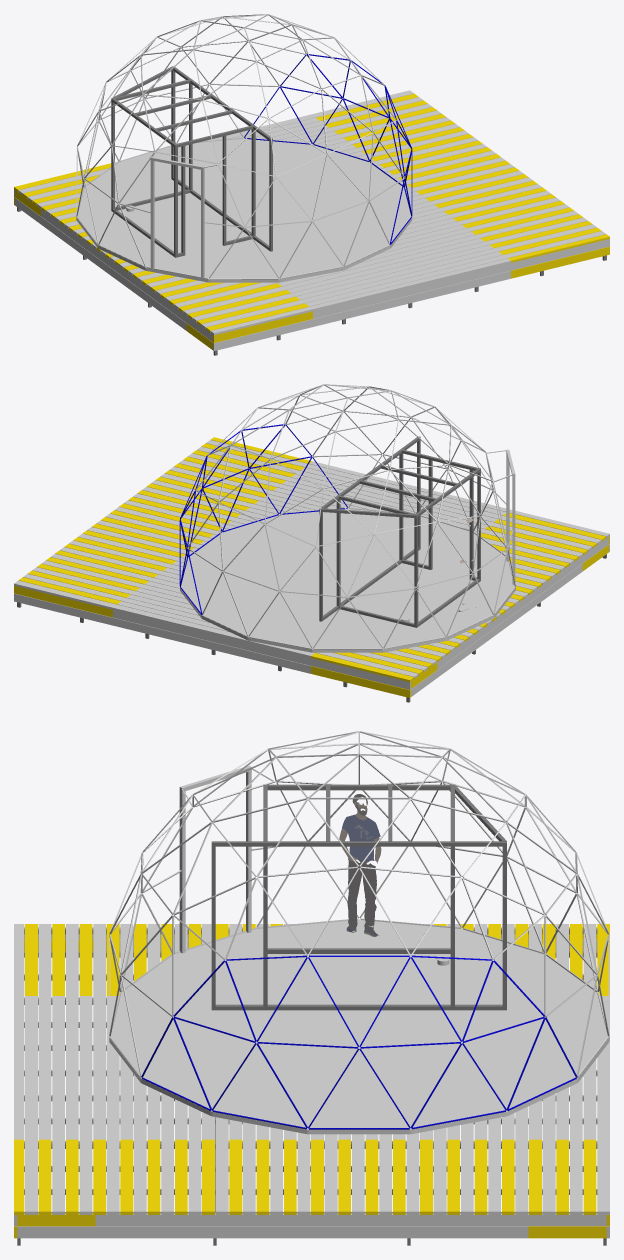
The picture shows the model from 3 angles, top to bottom: view 1: azimuth 30°, elevation 25°; view 2: azimuth 150°, elevation 25°; view 3: azimuth 270°, elevation 25°; orthographic projection. The views are drawn at different scales.
Visible parts, largest first — view 1: Mesh167 _________________ _____ Group1 Model, Mesh191 Group28 Group27 ______ Group1 Model, Mesh189 Group25 Group24 ______ Group1 Model, Mesh223 Group70 Group51 ______ Group1 Model, Mesh216 Group63 Group51 ______ Group1 Model, Mesh239 Group86 Group51 ______ Group1 Model, Mesh246 Group93 Group51 ______ Group1 Model, Mesh260 Group107 Group51 ______ Group1 Model, Mesh235 Group82 Group51 ______ Group1 Model, Mesh250 Group97 Group51 ______ Group1 Model, Mesh201 Group46 Group45 Group44 ______ Group1 Model, Mesh203 Group49 Group48 Group44 ______ Group1 Model (+58 smaller); view 2: Mesh167 _________________ _____ Group1 Model, Mesh197 Group39 Group38 Group37 ______ Group1 Model, Mesh199 Group42 Group41 Group37 ______ Group1 Model, Mesh231 Group78 Group51 ______ Group1 Model, Mesh201 Group46 Group45 Group44 ______ Group1 Model, Mesh203 Group49 Group48 Group44 ______ Group1 Model, Mesh216 Group63 Group51 ______ Group1 Model, Mesh250 Group97 Group51 ______ Group1 Model, Mesh260 Group107 Group51 ______ Group1 Model, Mesh235 Group82 Group51 ______ Group1 Model, Mesh239 Group86 Group51 ______ Group1 Model, Mesh223 Group70 Group51 ______ Group1 Model (+60 smaller); view 3: Mesh167 _________________ _____ Group1 Model, Mesh193 Group32 Group31 Group30 ______ Group1 Model, Mesh195 Group35 Group34 Group30 ______ Group1 Model, Mesh188 Marc1 _____ Group1 Model, Mesh260 Group107 Group51 ______ Group1 Model, Mesh239 Group86 Group51 ______ Group1 Model, Mesh235 Group82 Group51 ______ Group1 Model, Mesh250 Group97 Group51 ______ Group1 Model, Mesh216 Group63 Group51 ______ Group1 Model, Mesh246 Group93 Group51 ______ Group1 Model, Mesh283 Group130 Group51 ______ Group1 Model, Mesh223 Group70 Group51 ______ Group1 Model (+63 smaller).
Boxes of the visible parts, x1,y1,x2,y2 form: Mesh167 _________________ _____ Group1 Model: (76, 138, 412, 282); Mesh191 Group28 Group27 ______ Group1 Model: (213, 271, 510, 350); Mesh189 Group25 Group24 ______ Group1 Model: (313, 239, 609, 318); Mesh223 Group70 Group51 ______ Group1 Model: (210, 258, 510, 335); Mesh216 Group63 Group51 ______ Group1 Model: (192, 245, 493, 322); Mesh239 Group86 Group51 ______ Group1 Model: (201, 251, 502, 329); Mesh246 Group93 Group51 ______ Group1 Model: (183, 238, 483, 315); Mesh260 Group107 Group51 ______ Group1 Model: (287, 217, 587, 293); Mesh235 Group82 Group51 ______ Group1 Model: (305, 231, 605, 306); Mesh250 Group97 Group51 ______ Group1 Model: (296, 224, 596, 299); Mesh201 Group46 Group45 Group44 ______ Group1 Model: (15, 198, 186, 330); Mesh203 Group49 Group48 Group44 ______ Group1 Model: (41, 209, 212, 341); Mesh167 _________________ _____ Group1 Model: (180, 508, 515, 652); Mesh197 Group39 Group38 Group37 ______ Group1 Model: (14, 593, 310, 673); Mesh199 Group42 Group41 Group37 ______ Group1 Model: (113, 610, 410, 689); Mesh231 Group78 Group51 ______ Group1 Model: (14, 580, 314, 657); Mesh201 Group46 Group45 Group44 ______ Group1 Model: (411, 564, 582, 696); Mesh203 Group49 Group48 Group44 ______ Group1 Model: (437, 537, 608, 669); Mesh216 Group63 Group51 ______ Group1 Model: (291, 474, 592, 551); Mesh250 Group97 Group51 ______ Group1 Model: (197, 446, 497, 522); Mesh260 Group107 Group51 ______ Group1 Model: (188, 453, 487, 528); Mesh235 Group82 Group51 ______ Group1 Model: (206, 440, 506, 515); Mesh239 Group86 Group51 ______ Group1 Model: (300, 467, 601, 544); Mesh223 Group70 Group51 ______ Group1 Model: (310, 461, 609, 538); Mesh167 _________________ _____ Group1 Model: (109, 919, 609, 1134); Mesh193 Group32 Group31 Group30 ______ Group1 Model: (17, 1226, 528, 1238); Mesh195 Group35 Group34 Group30 ______ Group1 Model: (95, 1213, 606, 1226); Mesh188 Marc1 _____ Group1 Model: (339, 794, 381, 936); Mesh260 Group107 Group51 ______ Group1 Model: (79, 996, 92, 1214); Mesh239 Group86 Group51 ______ Group1 Model: (38, 924, 51, 1139); Mesh235 Group82 Group51 ______ Group1 Model: (25, 996, 37, 1214); Mesh250 Group97 Group51 ______ Group1 Model: (52, 996, 64, 1214); Mesh216 Group63 Group51 ______ Group1 Model: (66, 924, 78, 1139); Mesh246 Group93 Group51 ______ Group1 Model: (93, 924, 105, 1139); Mesh283 Group130 Group51 ______ Group1 Model: (106, 996, 119, 1214); Mesh223 Group70 Group51 ______ Group1 Model: (14, 924, 24, 1139).
Bounding box in the file's own units: 8 × 4.04 × 7.
